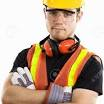hard hat: (42, 1, 84, 9)
high-vis: (26, 41, 95, 102)
